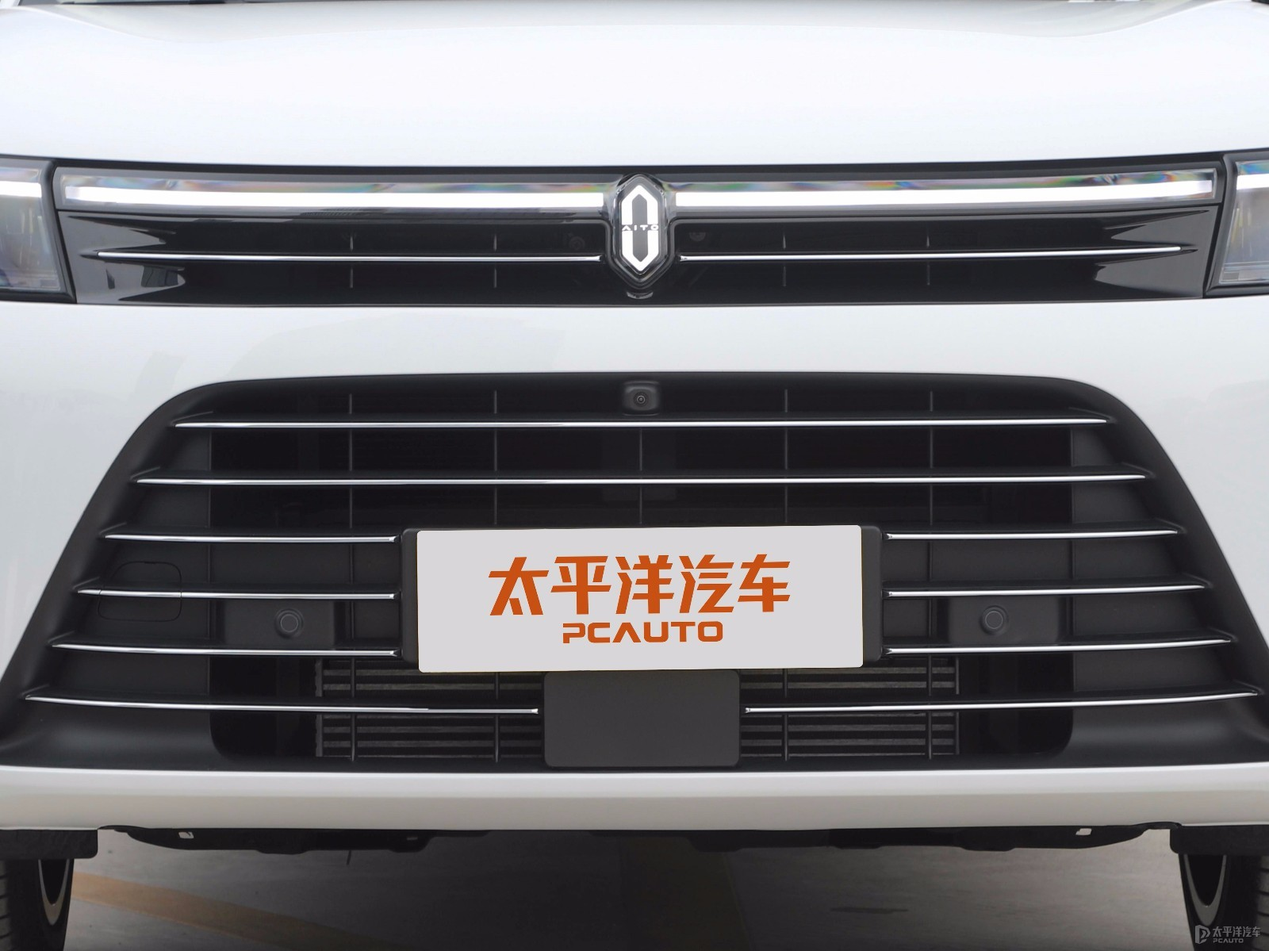AITO: (622, 186, 659, 270)
